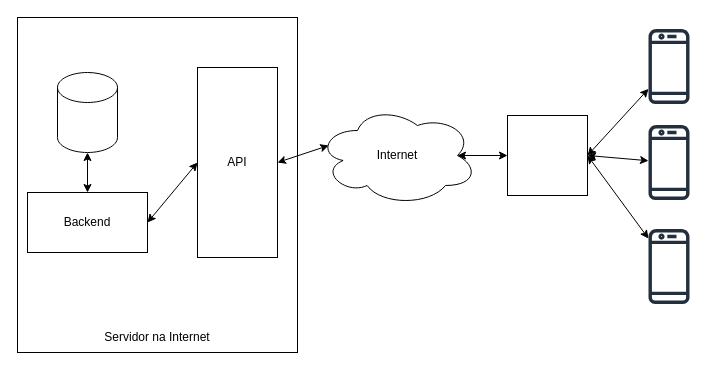
The diagram is 707 pixels wide and 370 high, and some of its shapes have lost their labels. The box of each missing label's shape, as (x1, y1, x2, y2) in pixels:
App Frequencia: (506, 114, 588, 196)
BD: (56, 72, 118, 152)
